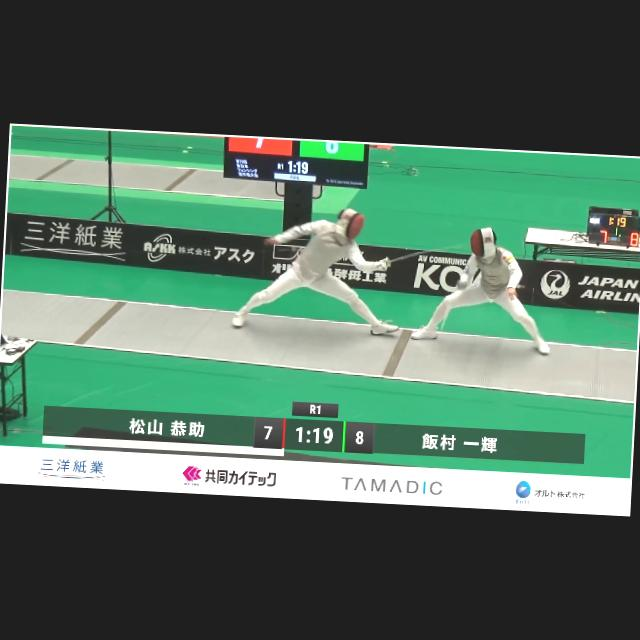blade: (373, 237, 472, 274), (439, 276, 471, 338)
